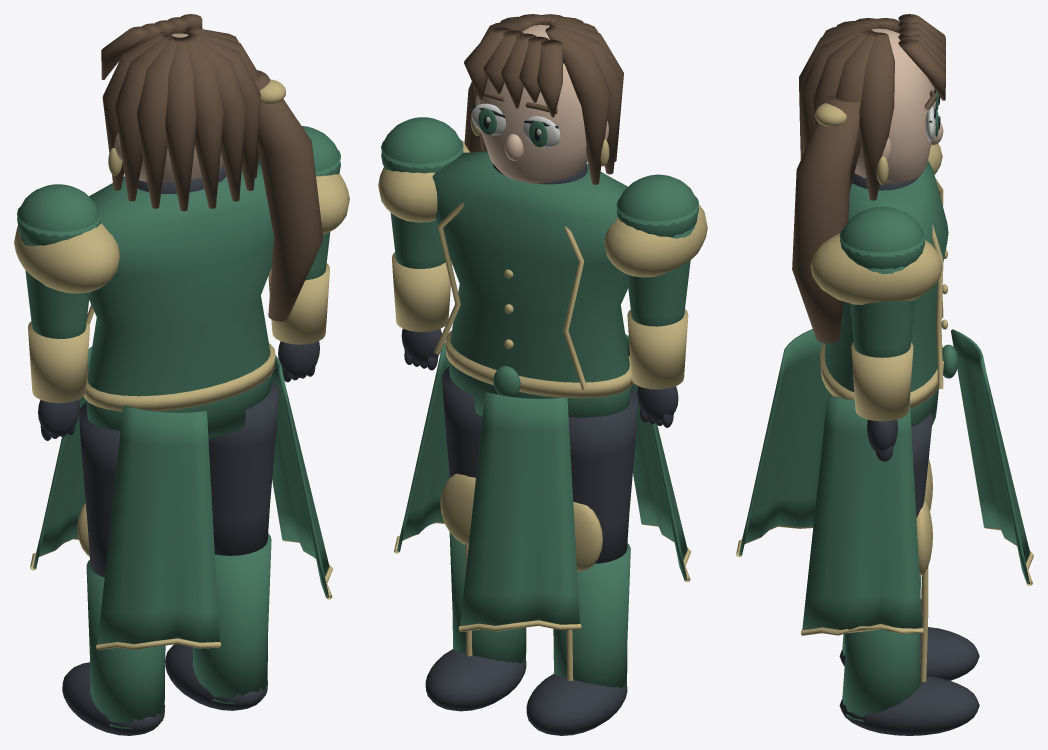
The model's file is hero-jade.glb.
3 views of the same model, side by side, from view 1: azimuth 30°, elevation 25°; view 2: azimuth 150°, elevation 25°; view 3: azimuth 270°, elevation 25° (orthographic).
Visible parts, largest first — view 1: torso_Painted character, head_Painted character, legR_Painted character, legL_Painted character, armL_Painted character, armR_Painted character; view 2: torso_Painted character, head_Painted character, legL_Painted character, legR_Painted character, armL_Painted character, armR_Painted character; view 3: torso_Painted character, head_Painted character, legR_Painted character, armR_Painted character, legL_Painted character.
Part boxes in pixels (<box>): torso_Painted character: <box>14,163,349,650</box>; head_Painted character: <box>101,14,322,321</box>; legR_Painted character: <box>165,380,278,710</box>; legL_Painted character: <box>62,402,165,735</box>; armL_Painted character: <box>17,184,100,440</box>; armR_Painted character: <box>258,126,340,382</box>; torso_Painted character: <box>378,140,707,631</box>; head_Painted character: <box>464,14,623,184</box>; legL_Painted character: <box>526,389,637,735</box>; legR_Painted character: <box>425,367,526,711</box>; armL_Painted character: <box>616,174,698,427</box>; armR_Painted character: <box>381,117,463,370</box>; torso_Painted character: <box>736,143,1033,635</box>; head_Painted character: <box>792,14,945,343</box>; legR_Painted character: <box>839,412,979,735</box>; armR_Painted character: <box>839,206,925,461</box>; legL_Painted character: <box>839,458,979,680</box>.
Size of the model in its own units: 0.91 by 1.92 by 0.7637.
